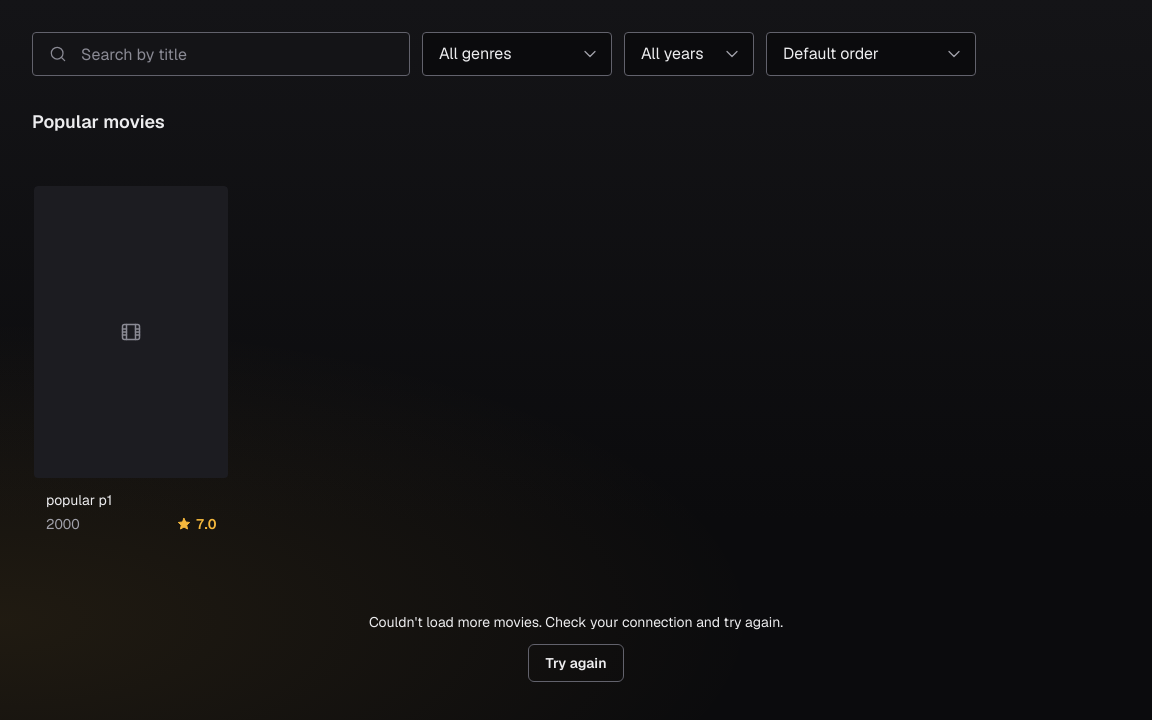
Scenario: ExplorerClient — infinite scroll › keeps loaded results and shows an inline retry when a later page fails (RF-15, RF-22)
Check: the message shows "Couldn't load more movies", box [369,613,783,631]
Check: the heading "popular p1" is shown, box [46,491,112,509]
Click the button "Try again" at (576, 663), box [528,644,624,682]
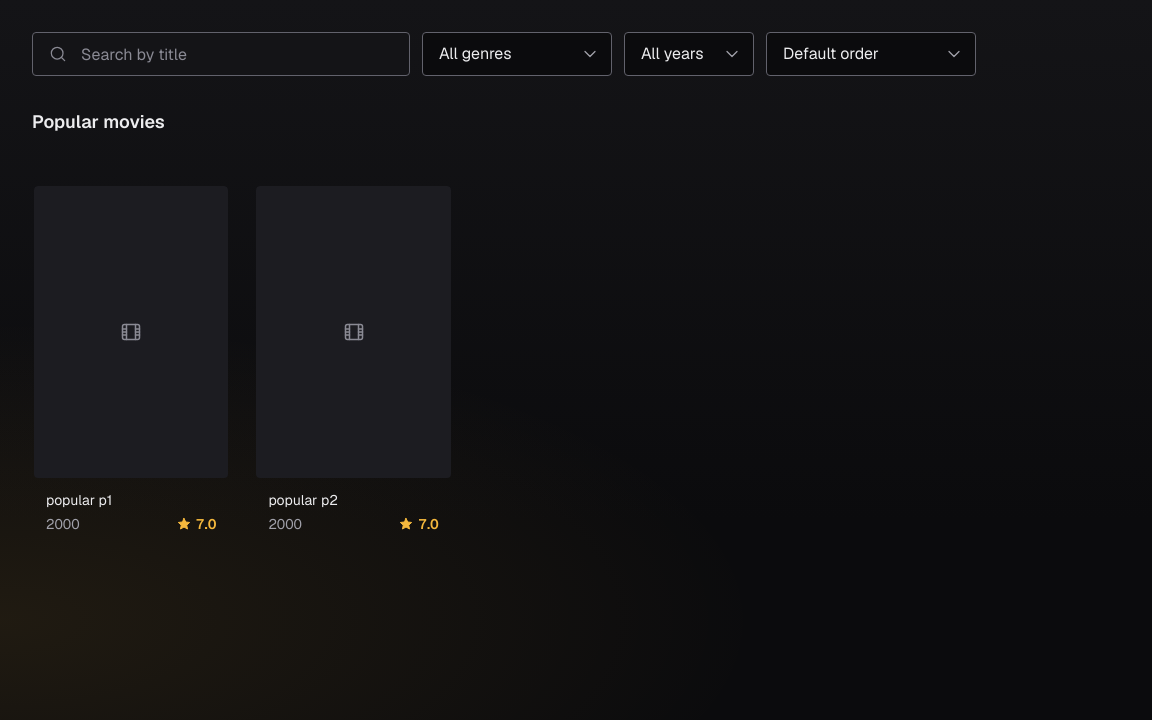
Check: the heading "popular p2" is shown, box [268,491,338,509]
Check: the message "Couldn't load more movies. Check your connection and try again. Try again" is gone
